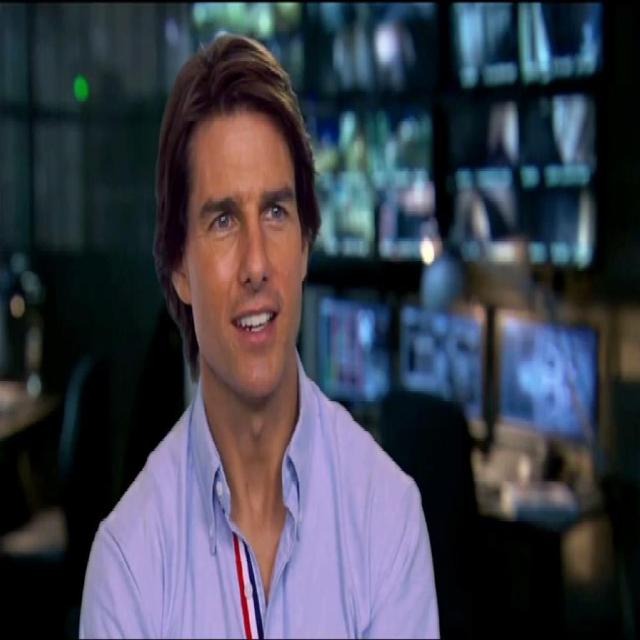Face: (191, 113, 306, 404)
